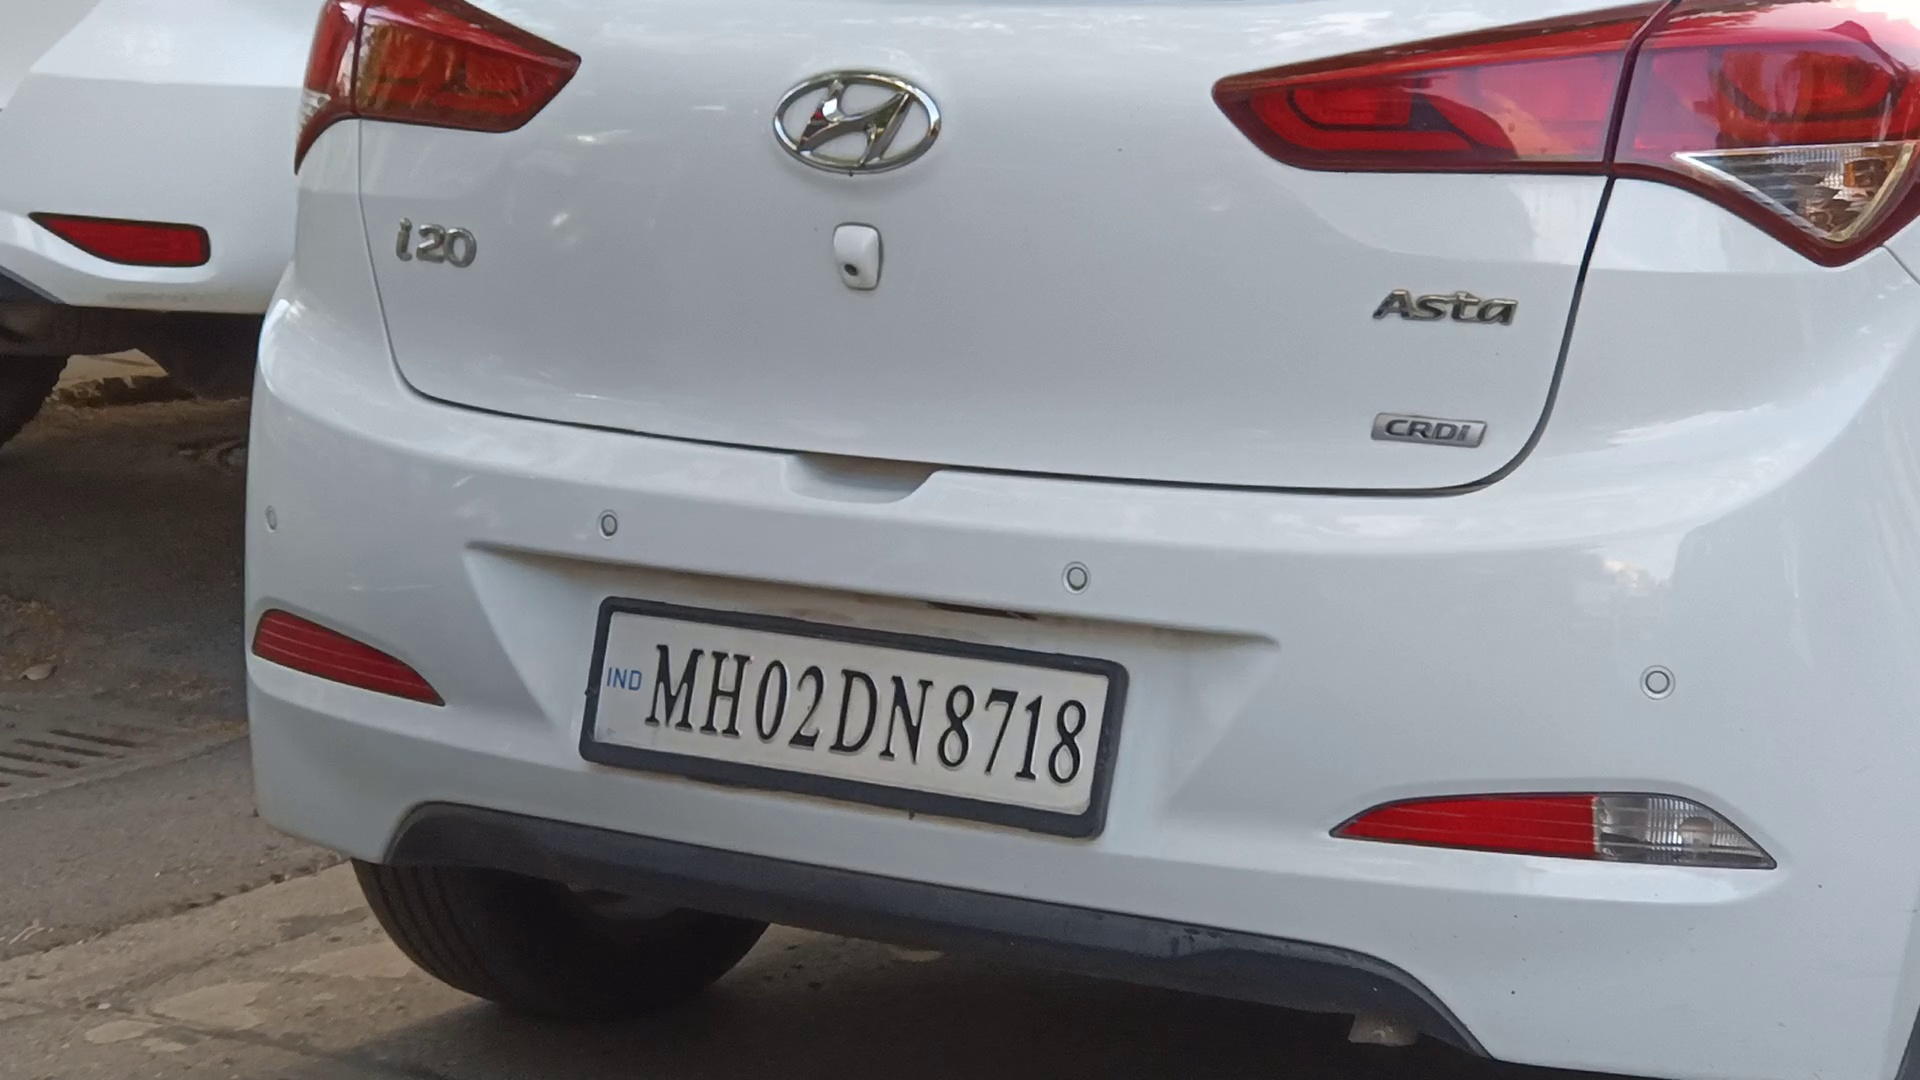MH02DN8718: (588, 609, 1109, 819)
